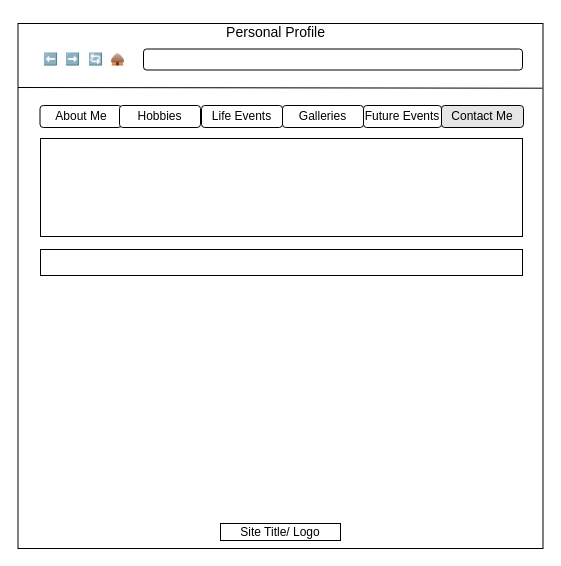
The diagram is 561 pixels wide and 566 high, and some of its shapes have lost their labels. The shapes that lost their labels are listed below. From the top down, each one's centre as x and y in pixels, then its label:
[332,59]: http://127.0.0.1:5500/Topic1/personalProfile/contactMe.html
[281,187]: Form to send message
[281,262]: Links: LinkedIn Tweeter
